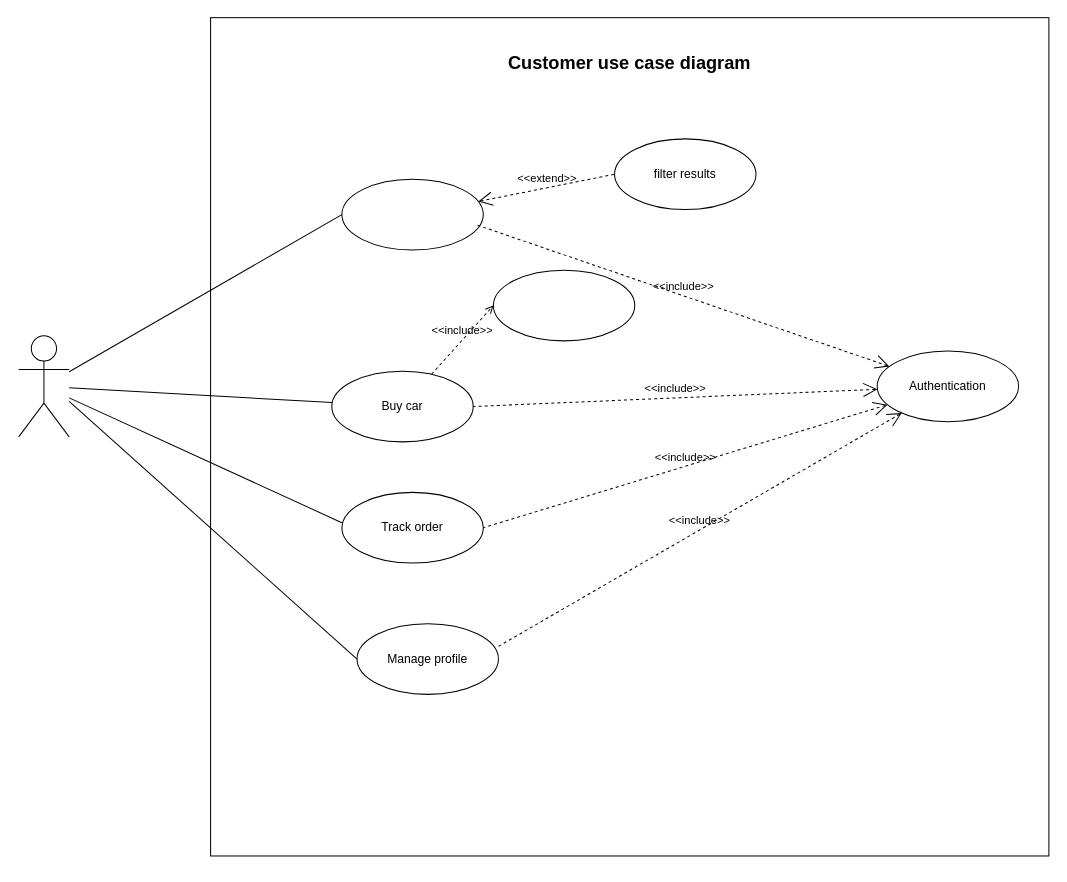
The diagram is 1067 pixels wide and 882 high, and some of its shapes have lost their labels. The shapes that lost their labels are listed below. From the top down, each one's centre as x and y in pixels, then its label:
At point 412,214: "Browse cars".
At point 563,305: "Make payment".
At point 43,386: "Customer".
